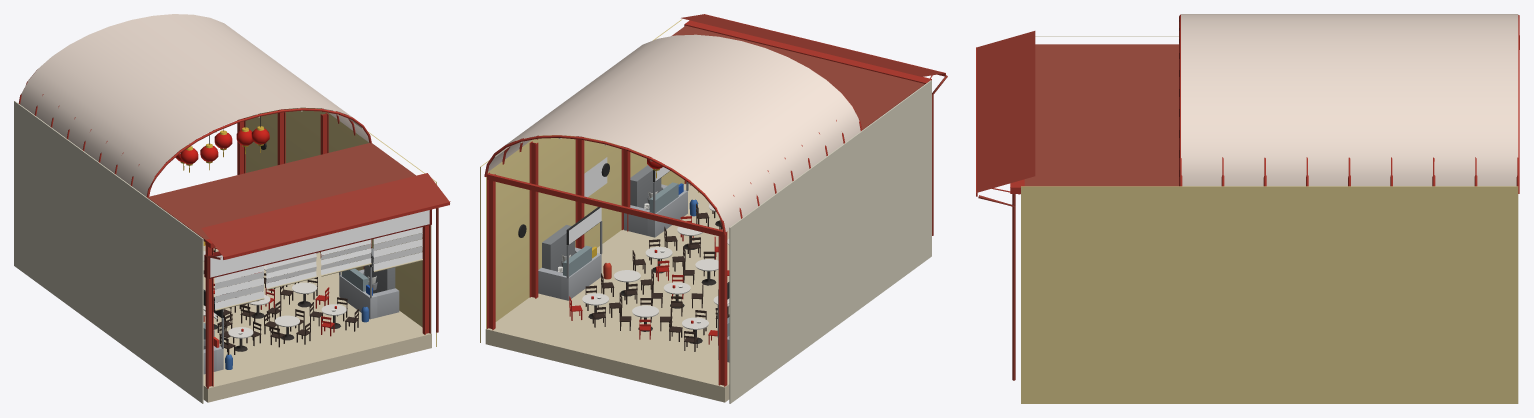
Rendered from foodcourt.lod0.glb.
3 views of the same model, side by side, from view 1: azimuth 30°, elevation 25°; view 2: azimuth 150°, elevation 25°; view 3: azimuth 270°, elevation 25° (orthographic). The views are drawn at different scales.
Visible parts, largest first — view 1: foodcourt-lod0; view 2: foodcourt-lod0; view 3: foodcourt-lod0.
Part boxes in pixels (bbox=[...]): foodcourt-lod0: bbox=[14, 14, 450, 403]; foodcourt-lod0: bbox=[480, 14, 947, 403]; foodcourt-lod0: bbox=[976, 14, 1519, 403].
Bounding box in the file's own units: 10.04 × 8.9 × 15.32.
